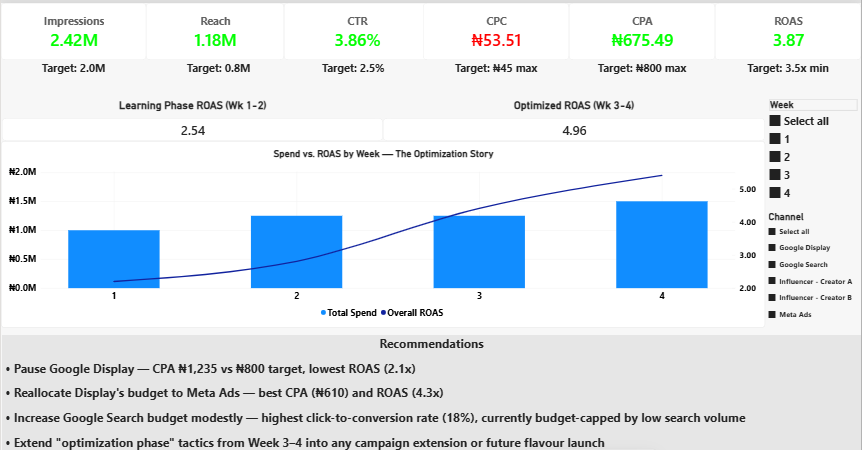

The page's visual inventory and layout, read from the dashboard file:
{"tool":"powerbi","page":{"name":"Optimization Insights","canvas":[1920,1080],"ordinal":3},"visuals":[{"type":"cardVisual","fields":{"Data":["_Measures.Overall CTR"]},"box":[632.9,0,326.2,127.4],"z":0},{"type":"cardVisual","fields":{"Data":["_Measures.Total Impressions"]},"box":[0,0,324,127.4],"z":1000},{"type":"cardVisual","fields":{"Data":["_Measures.Total Reach"]},"box":[324,0,308.9,127.4],"z":2000},{"type":"cardVisual","fields":{"Data":["_Measures.Overall CPC"]},"box":[941.8,0,326.2,127.4],"z":3000},{"type":"cardVisual","fields":{"Data":["_Measures.Overall CPA"]},"box":[1267.9,0,326.2,127.4],"z":4000},{"type":"cardVisual","fields":{"Data":["_Measures.Overall ROAS"]},"box":[1594.1,0,326.2,127.4],"z":5000},{"type":"textbox","box":[0,127.4,324,45.4],"z":6000},{"type":"textbox","box":[324,127.4,324,45.4],"z":7000},{"type":"textbox","box":[632.9,127.4,308.9,45.4],"z":8000},{"type":"textbox","box":[941.8,127.4,326.2,45.4],"z":9000},{"type":"textbox","box":[1267.9,127.4,326.2,45.4],"z":10000},{"type":"textbox","box":[1594.1,127.4,326.2,45.4],"z":11000},{"type":"slicer","fields":{"Values":["Raw Campaign Data.Week"]},"box":[1707.6,215.1,212.4,247.4],"z":12000},{"type":"slicer","fields":{"Values":["Raw Campaign Data.Channel"]},"box":[1706.4,464.4,213.8,261.4],"z":13000},{"type":"lineClusteredColumnComboChart","title":"Spend vs. ROAS by Week — The Optimization Story","fields":{"Category":["Raw Campaign Data.Week"],"Y":["_Measures.Total Spend"],"Y2":["_Measures.Overall ROAS"]},"box":[0,308.1,1705.7,417.5],"z":13001},{"type":"cardVisual","title":"Optimized ROAS (Wk 3-4)","fields":{"Data":["_Measures.ROAS Weeks 3-4"]},"box":[852.8,214.3,852.8,93.8],"z":13002},{"type":"cardVisual","title":"Learning Phase ROAS (Wk 1-2)","fields":{"Data":["_Measures.ROAS Weeks 1-2"]},"box":[2.2,214.3,850.6,93.8],"z":13003},{"type":"textbox","box":[2.2,741.2,1917.8,285.8],"z":13004}]}

Visuals, with their boxes on the page's 1920x1080 design canvas (x1, y1, x2, y2). These are canvas units, not pixel positions in the 862x450 screenshot, which may show the page scaled, cropped or inside an application window:
cardVisual - _Measures.Overall CTR: 633 0 959 127
cardVisual - _Measures.Total Impressions: 0 0 324 127
cardVisual - _Measures.Total Reach: 324 0 633 127
cardVisual - _Measures.Overall CPC: 942 0 1268 127
cardVisual - _Measures.Overall CPA: 1268 0 1594 127
cardVisual - _Measures.Overall ROAS: 1594 0 1920 127
textbox: 0 127 324 173
textbox: 324 127 648 173
textbox: 633 127 942 173
textbox: 942 127 1268 173
textbox: 1268 127 1594 173
textbox: 1594 127 1920 173
slicer - Raw Campaign Data.Week: 1708 215 1920 462
slicer - Raw Campaign Data.Channel: 1706 464 1920 726
"Spend vs. ROAS by Week — The Optimization Story" lineClusteredColumnComboChart: 0 308 1706 726
"Optimized ROAS (Wk 3-4)" cardVisual: 853 214 1706 308
"Learning Phase ROAS (Wk 1-2)" cardVisual: 2 214 853 308
textbox: 2 741 1920 1027
